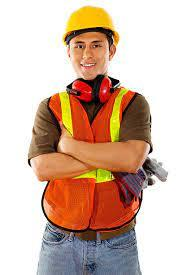hat: (54, 1, 145, 60)
vest: (29, 71, 155, 243)
